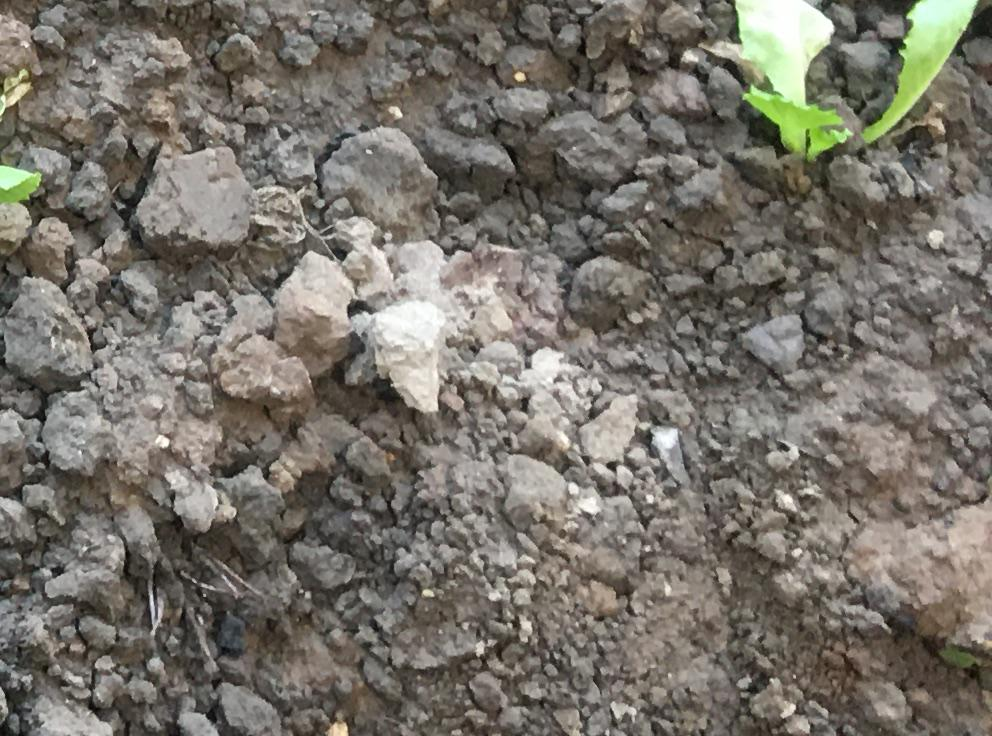block: (137, 153, 251, 253), (321, 126, 424, 235), (266, 250, 347, 377), (4, 278, 94, 388)
